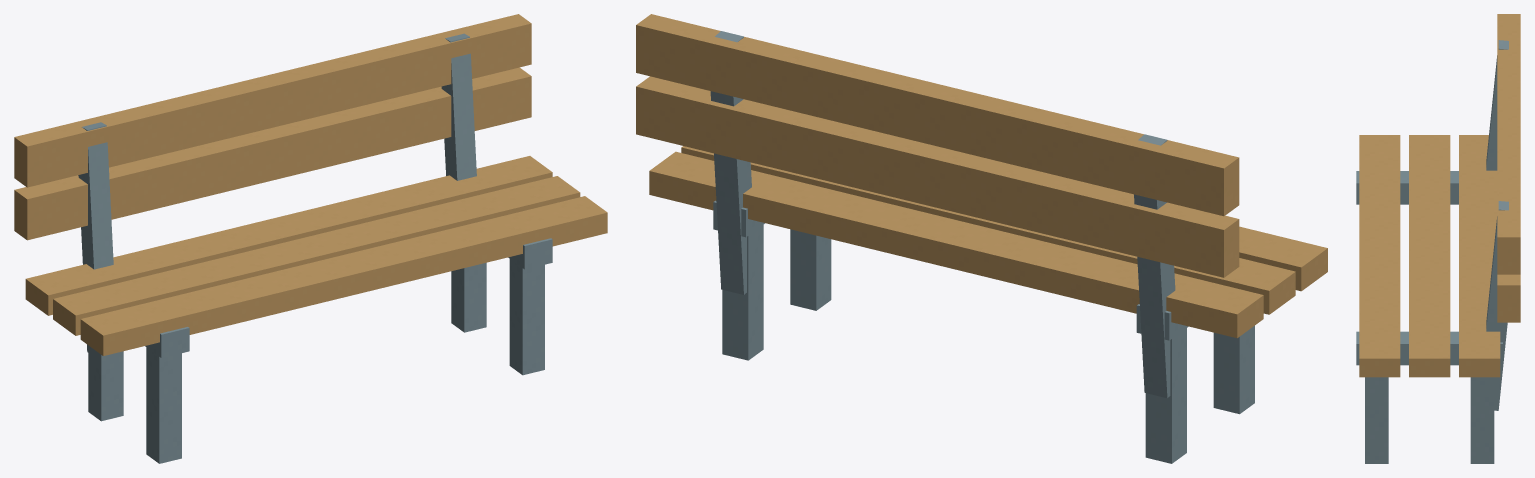
File: low-poly-city-bench.glb
3 views of the same model, side by side, from view 1: azimuth 30°, elevation 25°; view 2: azimuth 150°, elevation 25°; view 3: azimuth 270°, elevation 25° (orthographic). The views are drawn at different scales.
Visible parts, largest first — view 1: Backrest plank 013, Backrest plank 012, Seat plank 001, Seat plank 002, Seat plank 003, Bench leg 009, Bench leg 005, Back support 007, Back support 011, Bench leg 006, Bench leg 010, Seat crossbearer 004 (+1 smaller); view 2: Backrest plank 013, Backrest plank 012, Seat plank 003, Seat plank 002, Back support 007, Back support 011, Bench leg 010, Bench leg 006, Bench leg 005, Seat plank 001, Bench leg 009; view 3: Seat plank 001, Seat plank 002, Seat plank 003, Backrest plank 013, Bench leg 010, Bench leg 009, Back support 011, Backrest plank 012, Back support 007, Seat crossbearer 008, Seat crossbearer 004.
Boxes of the visible parts, box(x1,y1,x2,y2) form: Backrest plank 013: box(14, 14, 531, 187); Backrest plank 012: box(14, 67, 531, 240); Seat plank 001: box(80, 196, 607, 355); Seat plank 002: box(53, 176, 580, 335); Seat plank 003: box(25, 156, 552, 315); Bench leg 009: box(509, 259, 544, 375); Bench leg 005: box(146, 347, 181, 463); Back support 007: box(78, 122, 113, 352); Back support 011: box(441, 33, 476, 180); Bench leg 006: box(88, 345, 123, 421); Bench leg 010: box(451, 262, 486, 332); Seat crossbearer 004: box(145, 327, 189, 358); Backrest plank 013: box(636, 14, 1239, 216); Backrest plank 012: box(636, 76, 1239, 277); Seat plank 003: box(649, 151, 1263, 338); Seat plank 002: box(681, 146, 1295, 314); Back support 007: box(1134, 134, 1175, 398); Back support 011: box(710, 31, 751, 294); Bench leg 010: box(722, 225, 763, 360); Bench leg 006: box(1145, 328, 1186, 463); Bench leg 005: box(1213, 325, 1254, 414); Seat plank 001: box(1239, 226, 1327, 291); Bench leg 009: box(790, 229, 831, 310); Seat plank 001: box(1359, 135, 1400, 377); Seat plank 002: box(1409, 135, 1450, 377); Seat plank 003: box(1459, 135, 1500, 377); Backrest plank 013: box(1497, 14, 1520, 274); Bench leg 010: box(1470, 377, 1494, 463); Bench leg 009: box(1365, 377, 1388, 463); Back support 011: box(1486, 201, 1508, 410); Backrest plank 012: box(1497, 274, 1520, 322); Back support 007: box(1486, 40, 1508, 170); Seat crossbearer 008: box(1356, 331, 1502, 365); Seat crossbearer 004: box(1356, 171, 1458, 204).
Bounding box in the file's own units: 1.8 × 0.9533 × 0.56.
Materials: 2 (2 with a texture image).
